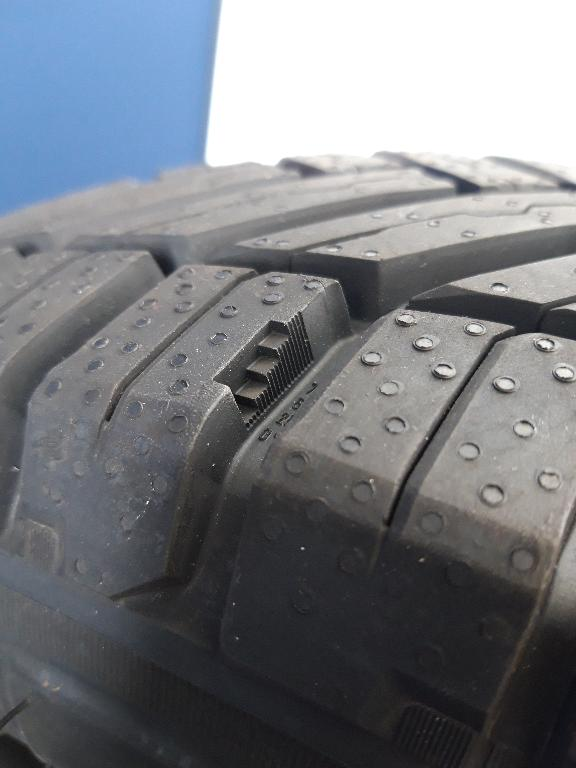temoin:100: (204, 306, 320, 438)
